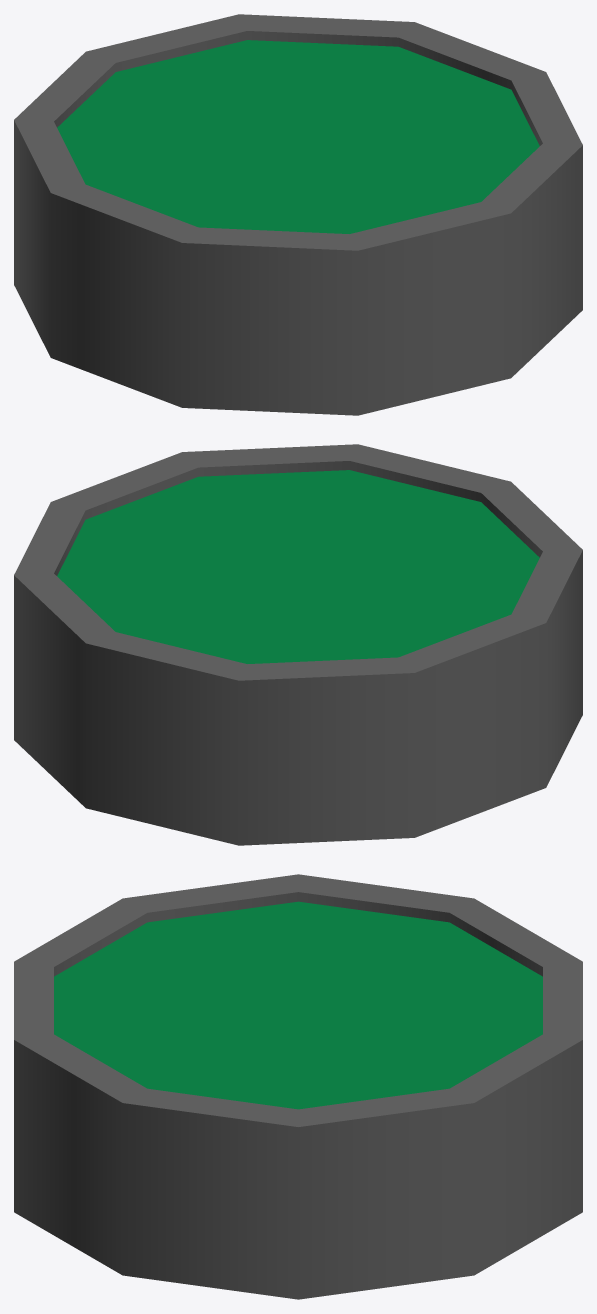
Rendered from WeaponPad.fbx.
3 views of the same model, one above another, from view 1: azimuth 30°, elevation 25°; view 2: azimuth 150°, elevation 25°; view 3: azimuth 270°, elevation 25° (orthographic). The views are drawn at different scales.
Visible parts, largest first — view 1: pCylinder23; view 2: pCylinder23; view 3: pCylinder23.
Boxes of the visible parts, x1,y1,x2,y2 form: pCylinder23: (14, 14, 582, 415); pCylinder23: (14, 444, 582, 845); pCylinder23: (14, 874, 582, 1299).
Bounding box in the file's own units: 2.33 × 0.7416 × 2.22.
